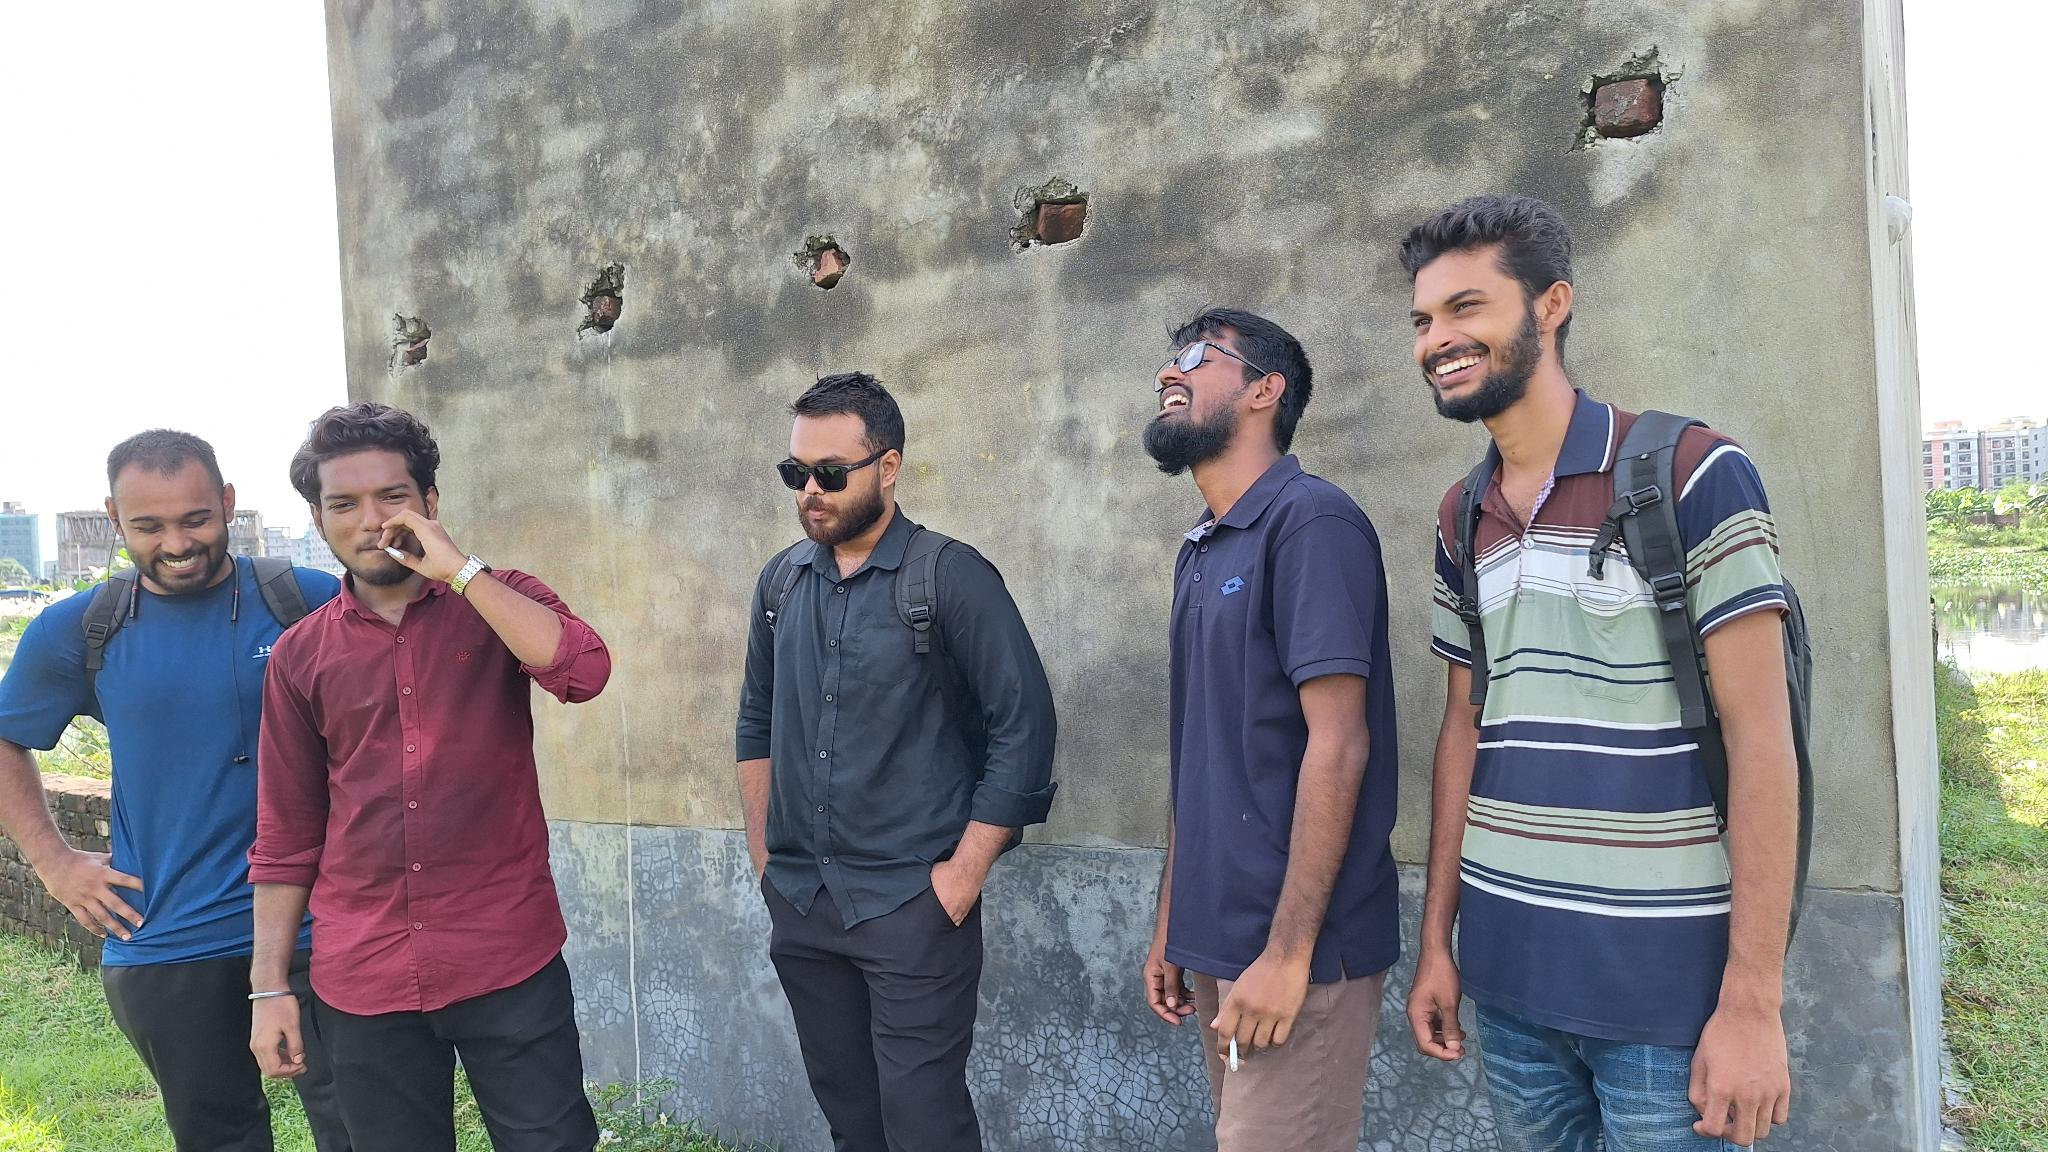cigarette: (1227, 1031, 1242, 1076), (383, 544, 407, 561)
nonSmoker: (1398, 194, 1812, 1152), (734, 370, 1059, 1152), (0, 430, 332, 1152)
smoker: (246, 402, 610, 1152), (1144, 307, 1405, 1152)
